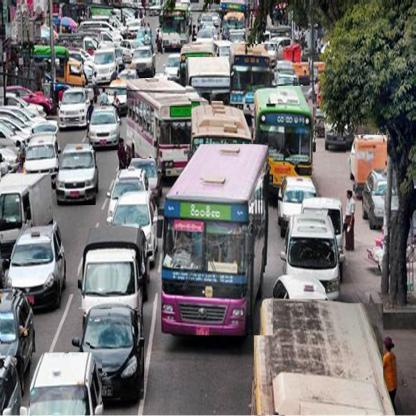bus: (158, 145, 274, 337), (255, 305, 385, 416), (127, 74, 203, 160), (257, 87, 314, 180), (231, 45, 279, 105), (192, 102, 252, 149), (186, 58, 231, 96), (164, 2, 191, 50), (221, 3, 250, 29)
car: (91, 303, 145, 401), (13, 219, 62, 311), (31, 354, 103, 416), (282, 215, 339, 278), (54, 145, 97, 207), (363, 164, 402, 231), (113, 191, 166, 232), (279, 174, 323, 219), (2, 298, 34, 358), (25, 137, 59, 176), (90, 109, 120, 151), (59, 92, 87, 136), (273, 278, 326, 301), (112, 169, 145, 198), (129, 51, 156, 80), (95, 51, 117, 81), (164, 51, 181, 82)
truck: (79, 229, 143, 311), (1, 164, 54, 261), (1, 174, 54, 243), (347, 136, 388, 193), (36, 50, 82, 84)
